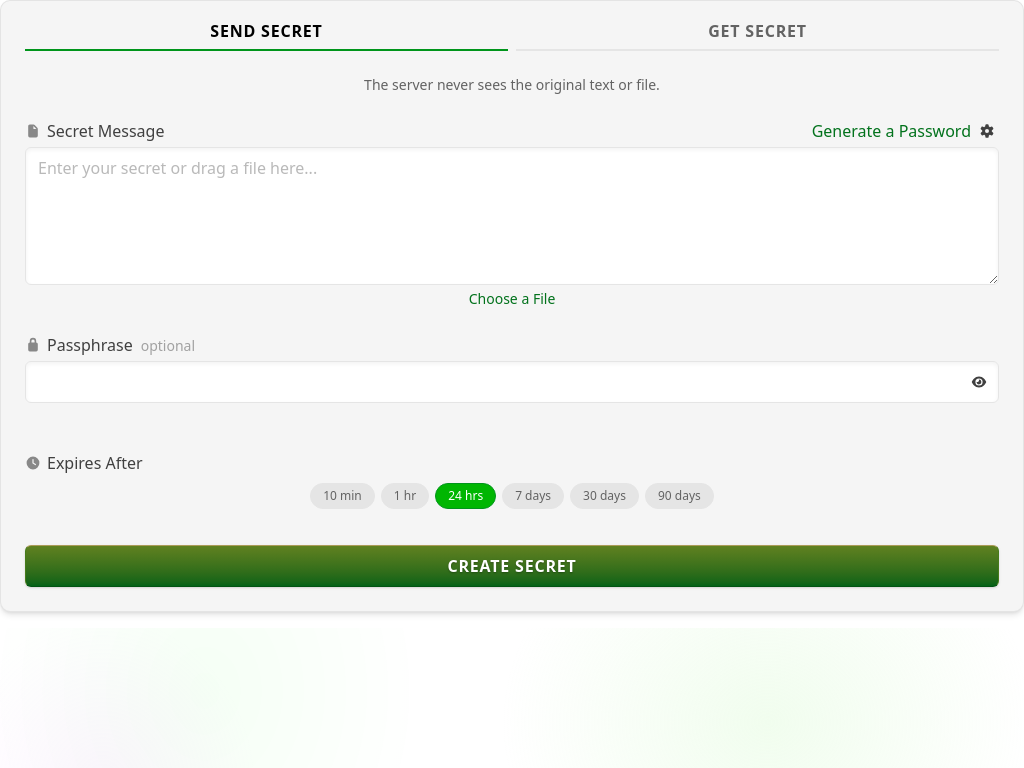
Test case: SendPage › closes the password modal from the X button
Click the button named "Password generator settings".
click(987, 131)  # box x1=975 y1=119 x2=999 y2=143
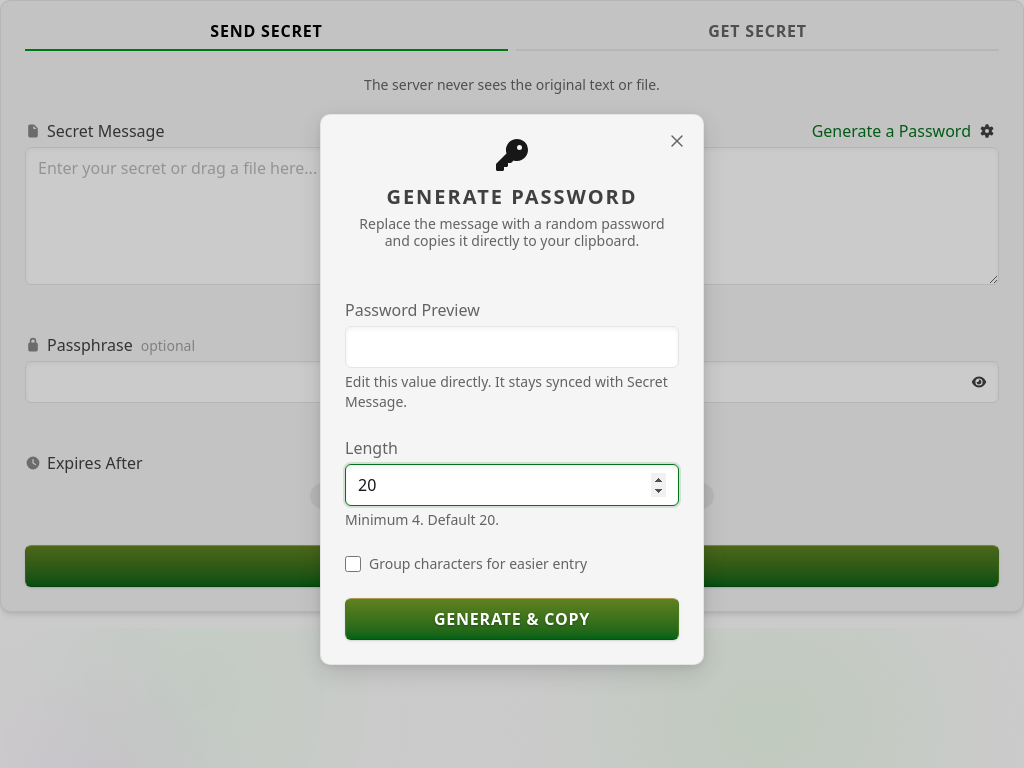
Click the button named "Close password generator".
click(677, 141)  # box x1=663 y1=127 x2=691 y2=155
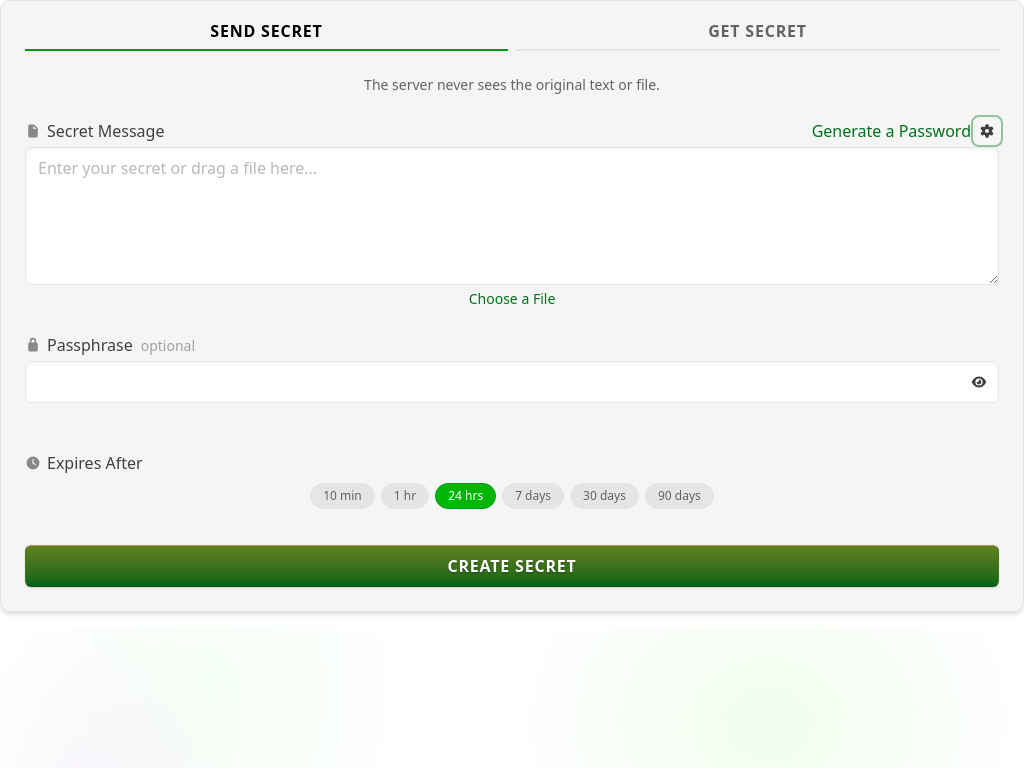
Expected: the text "Generate Password" is gone
